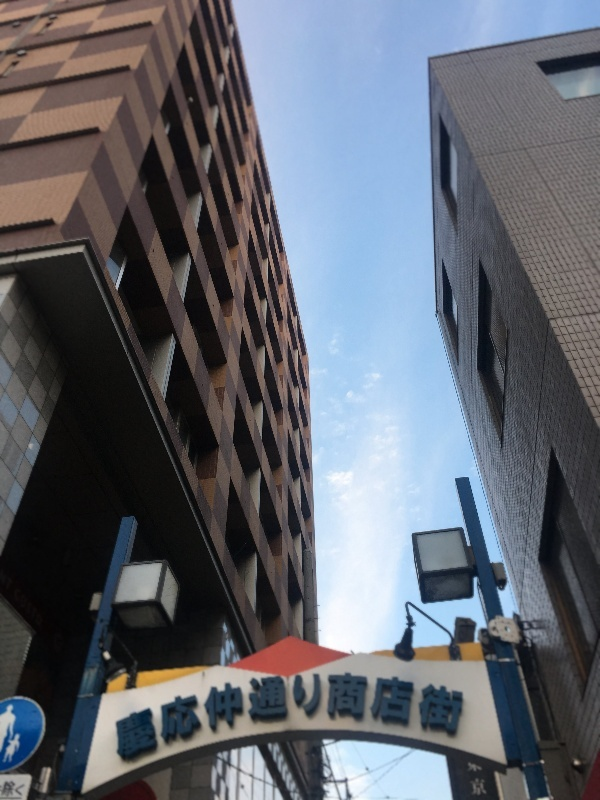text: (113, 658, 128, 765), (129, 658, 144, 765), (145, 658, 160, 765), (161, 658, 176, 765), (177, 658, 192, 765), (193, 658, 208, 765), (209, 658, 224, 765), (225, 658, 240, 765), (241, 658, 256, 765), (257, 658, 272, 765), (273, 658, 288, 765), (289, 658, 304, 765), (305, 658, 320, 765), (321, 658, 336, 765), (337, 658, 352, 765), (353, 658, 368, 765), (369, 658, 384, 765), (385, 658, 400, 765), (401, 658, 416, 765), (417, 658, 432, 765), (433, 658, 448, 765), (449, 658, 464, 765), (465, 658, 470, 765), (110, 658, 112, 765), (470, 778, 480, 797), (4, 783, 16, 798), (467, 762, 480, 774), (17, 783, 27, 798), (481, 778, 488, 797), (481, 762, 483, 774)
